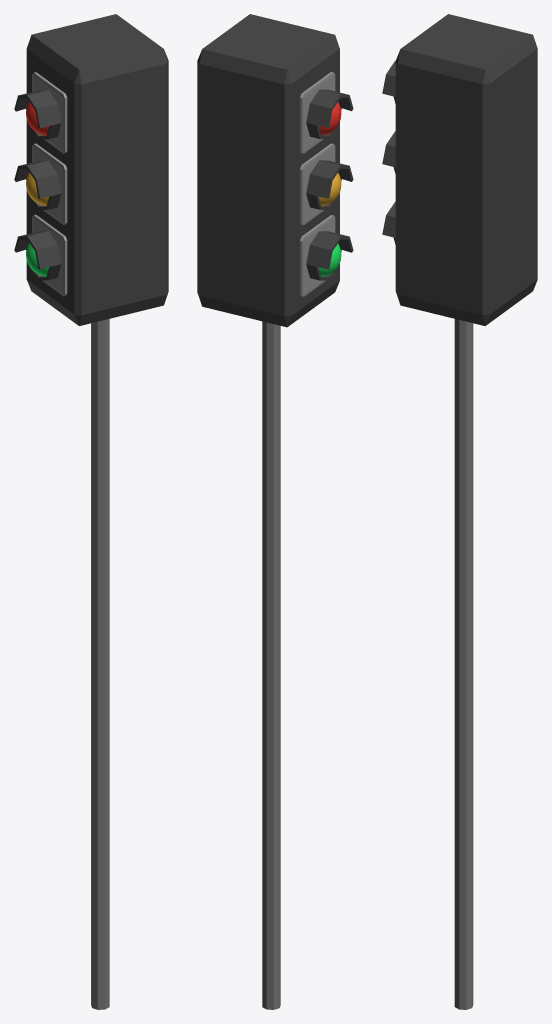
Rendered from TrafficLight.fbx.
3 renders of one model, left to right at view 1: azimuth 30°, elevation 25°; view 2: azimuth 150°, elevation 25°; view 3: azimuth 330°, elevation 25°, orthographic.
Parts seen in each view (by area): view 1: TrafficLight; view 2: TrafficLight; view 3: TrafficLight.
Part boxes in pixels (x1,y1,x2,y2): TrafficLight: [14, 14, 168, 1009]; TrafficLight: [197, 14, 353, 1009]; TrafficLight: [382, 14, 537, 1009].
Size of the model in its own units: 18.13 by 141 by 14.09.
